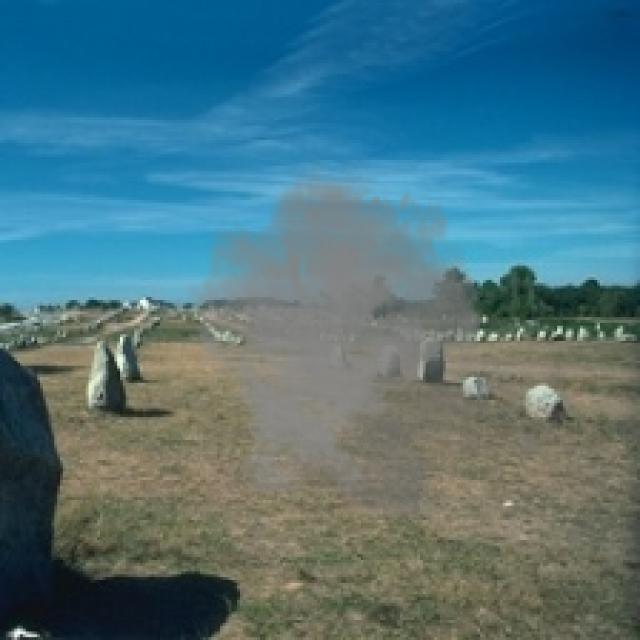Smoke: (185, 152, 586, 537)
